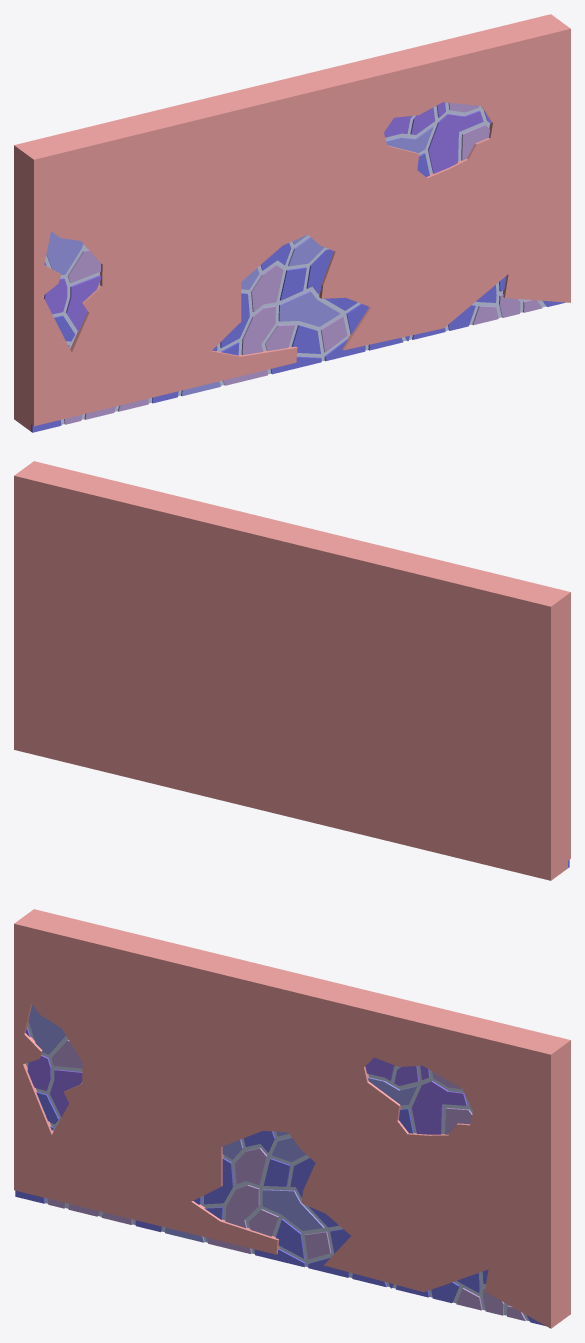
The model's file is MOR_TEP_PAREDES_01_ROSA_MITAD.fbx.
3 renders of one model, top to bottom at view 1: azimuth 30°, elevation 25°; view 2: azimuth 150°, elevation 25°; view 3: azimuth 330°, elevation 25°, orthographic.
Parts seen in each view (by area): view 1: MOR_TEP_PAREDES_01_ROSA_MITAD_LOD0; view 2: MOR_TEP_PAREDES_01_ROSA_MITAD_LOD0; view 3: MOR_TEP_PAREDES_01_ROSA_MITAD_LOD0.
Boxes of the visible parts, x1,y1,x2,y2 form: MOR_TEP_PAREDES_01_ROSA_MITAD_LOD0: (14,14,570,432); MOR_TEP_PAREDES_01_ROSA_MITAD_LOD0: (14,461,570,880); MOR_TEP_PAREDES_01_ROSA_MITAD_LOD0: (14,909,570,1328).
Size of what is drawn, in the model's own units: 393 by 192 by 25.36.
